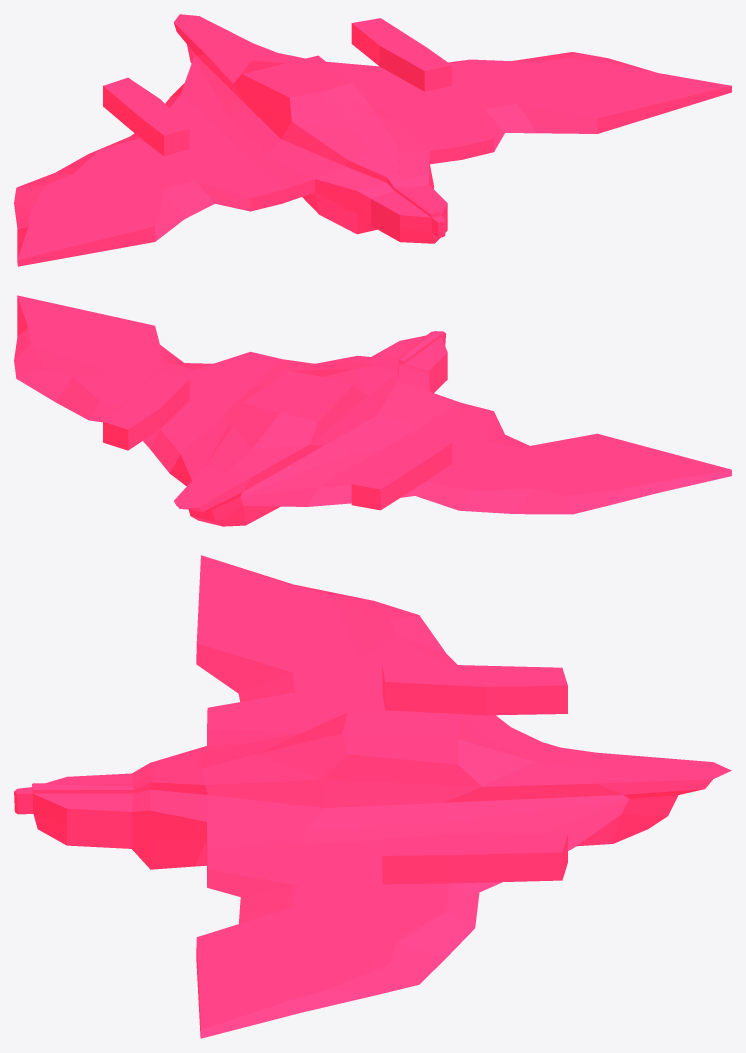
The model's file is mob_03.fbx.
3 views of the same model, one above another, from view 1: azimuth 30°, elevation 25°; view 2: azimuth 150°, elevation 25°; view 3: azimuth 270°, elevation 25° (orthographic). The views are drawn at different scales.
Visible parts, largest first — view 1: Cube; view 2: Cube; view 3: Cube.
Part boxes in pixels (x1,y1,x2,y2): Cube: [14, 14, 731, 266]; Cube: [14, 295, 731, 526]; Cube: [14, 555, 731, 1038].
Size of the model in its own units: 912 by 101 by 583.
